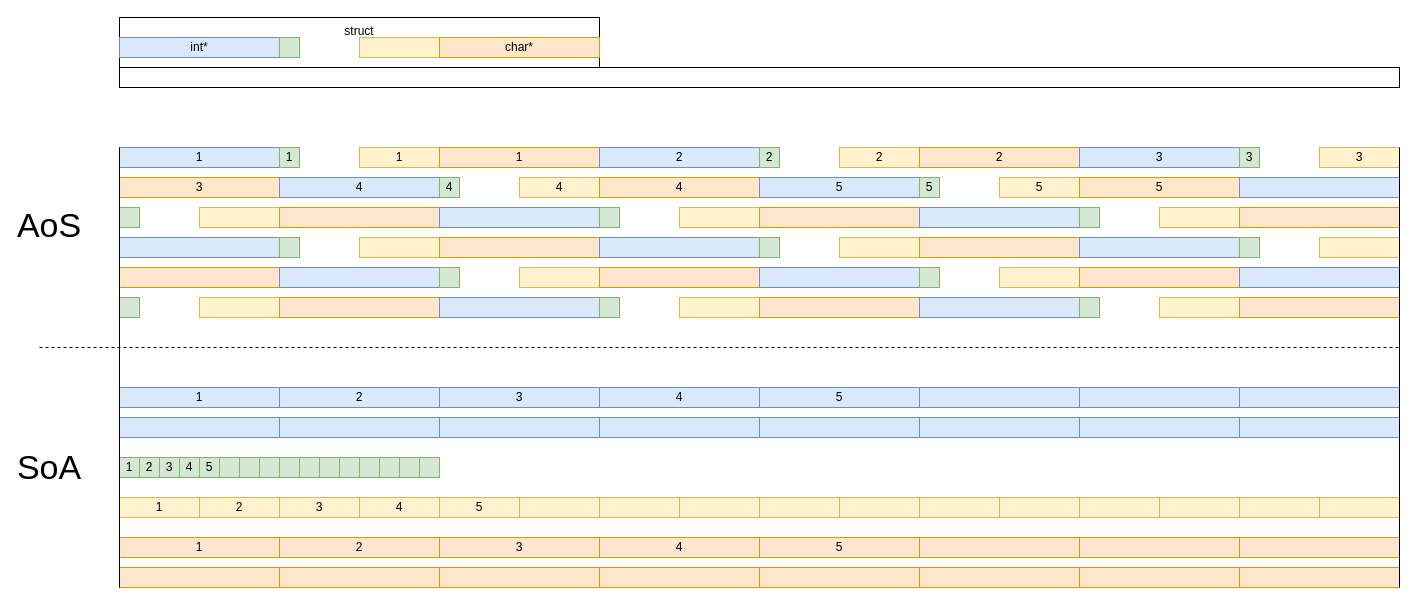
Image size: 1418x606. Some labels were removed from this diagram. The shapes that lost their labels are listed below. From the top down, each one's box as (x1, y1, x2, y2) in pixels, then its label:
(278, 36, 300, 58): char
(358, 36, 440, 58): int
(118, 66, 1400, 88): 64 byte - cache line
